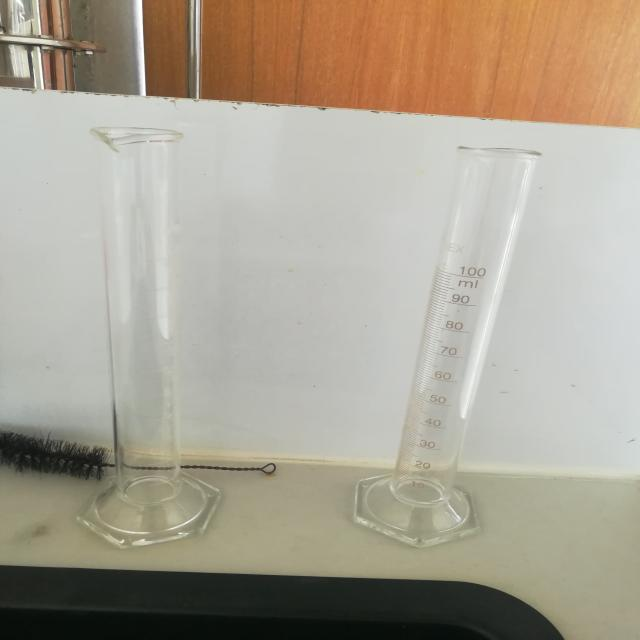Measuring_Cylinder: (314, 89, 564, 569), (60, 85, 234, 558)
